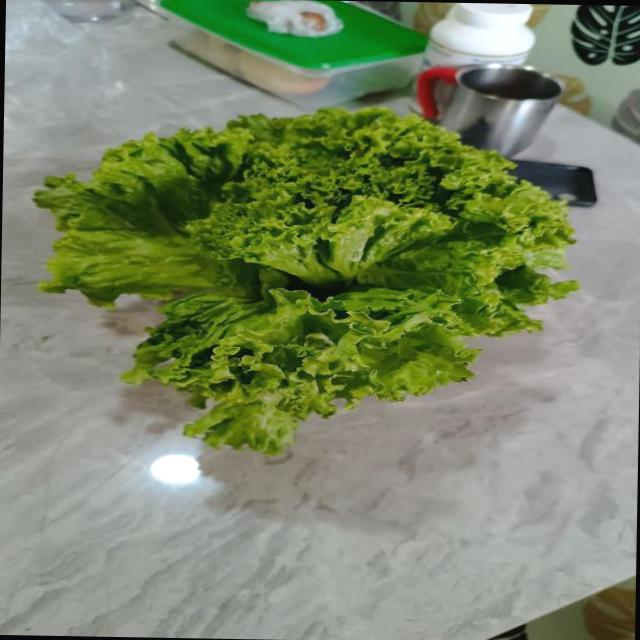Lettuce-Ready-to-Harvest: (33, 107, 577, 454)
